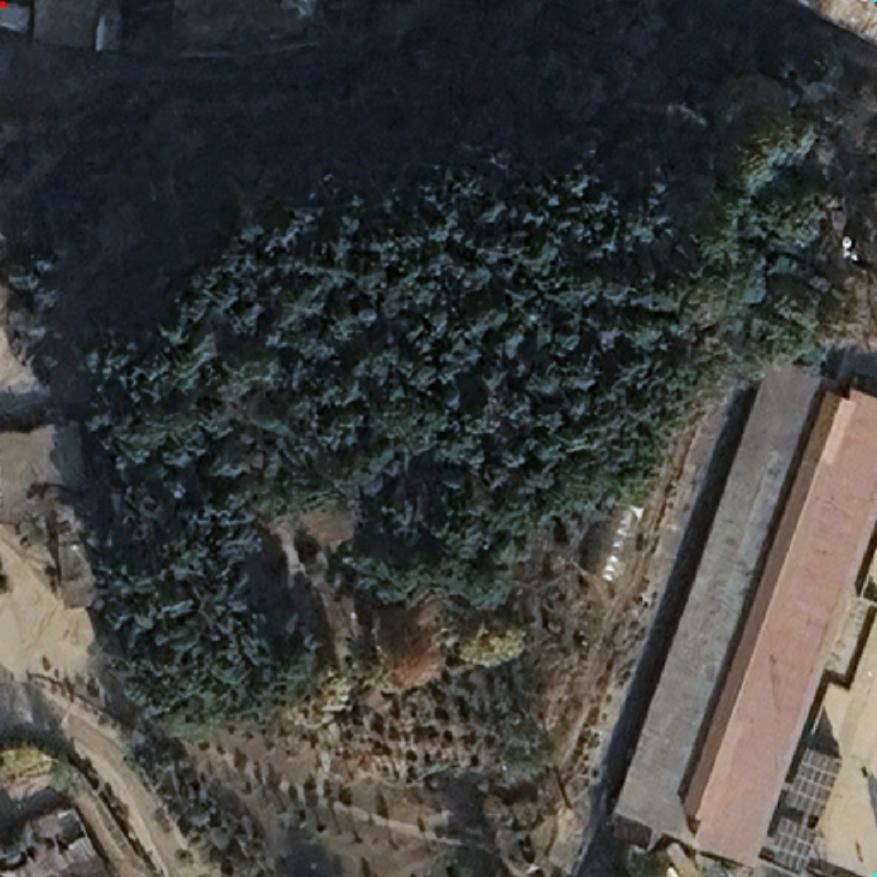Solarpanel: (787, 748, 841, 816), (772, 816, 818, 872)
